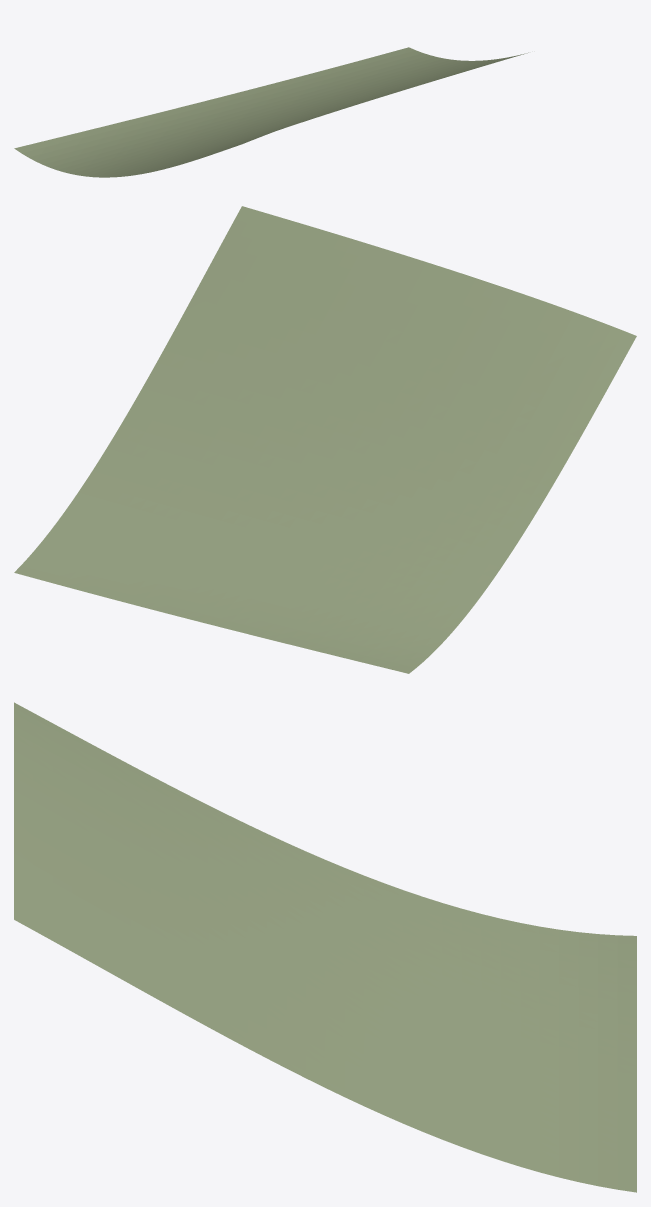
The model's file is expanse-17-1.glb.
The picture shows the model from 3 angles, top to bottom: view 1: azimuth 30°, elevation 25°; view 2: azimuth 150°, elevation 25°; view 3: azimuth 270°, elevation 25°; orthographic projection. The views are drawn at different scales.
Parts seen in each view (by area): view 1: expanse-17-1; view 2: expanse-17-1; view 3: expanse-17-1.
Boxes of the visible parts, bbox=[...] form: expanse-17-1: bbox=[14, 47, 528, 177]; expanse-17-1: bbox=[14, 206, 636, 673]; expanse-17-1: bbox=[14, 702, 636, 1192].
Bounding box in the file's own units: 256 × 127 × 256.
